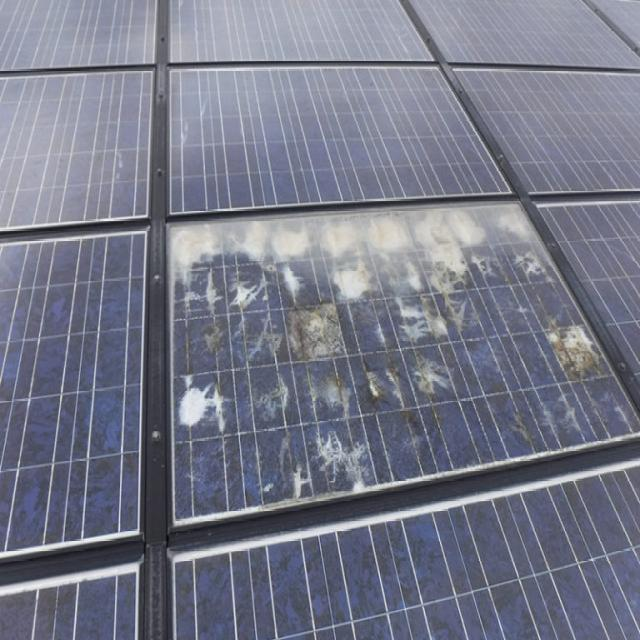physical damage: (168, 206, 640, 521)
